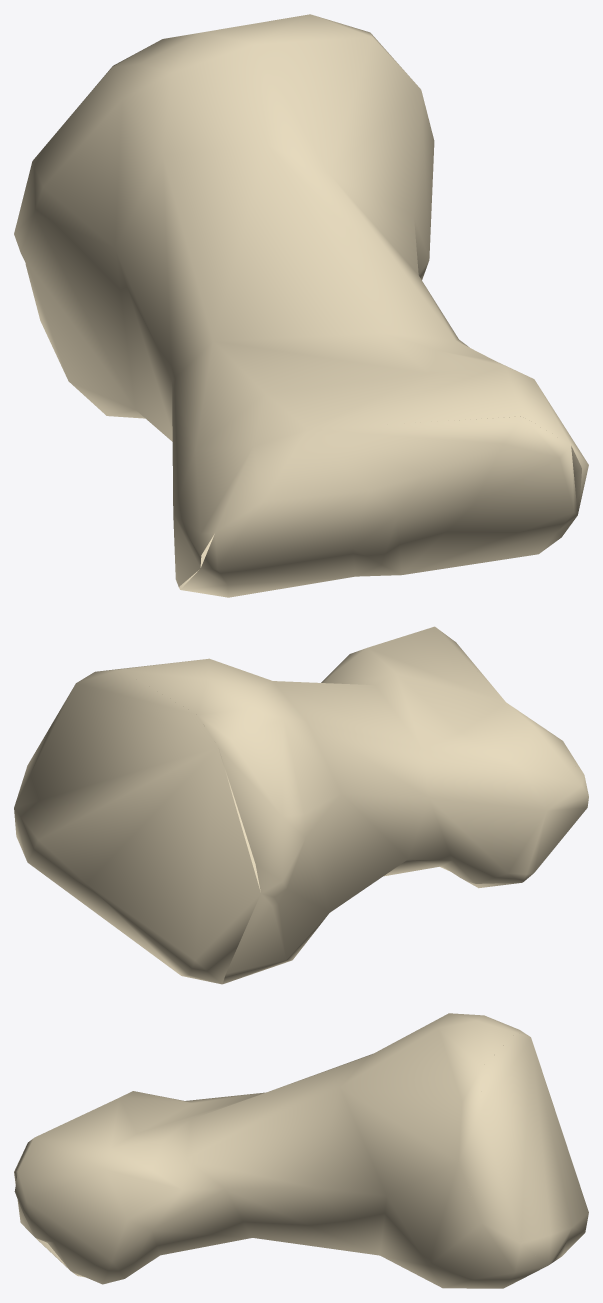
Rendered from esqueleto-middle-phalanx-of-second-finger-of-foot-r.glb.
3 views of the same model, one above another, from view 1: azimuth 30°, elevation 25°; view 2: azimuth 150°, elevation 25°; view 3: azimuth 270°, elevation 25° (orthographic). The views are drawn at different scales.
Parts seen in each view (by area): view 1: Middle phalanx of second finger of foot.r; view 2: Middle phalanx of second finger of foot.r; view 3: Middle phalanx of second finger of foot.r.
Part boxes in pixels (<box>): Middle phalanx of second finger of foot.r: <box>14,14,588,597</box>; Middle phalanx of second finger of foot.r: <box>14,626,588,984</box>; Middle phalanx of second finger of foot.r: <box>14,1013,588,1288</box>.
Bounding box in the file's own units: 0.0123 × 0.00908 × 0.0176.
